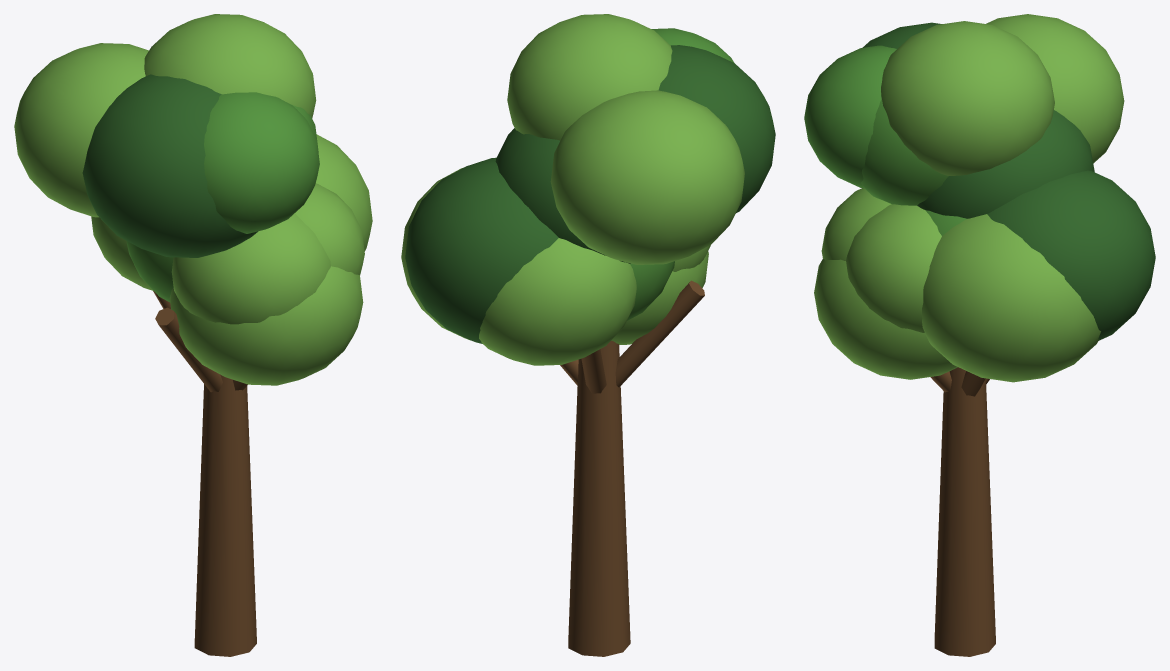
Rendered from arbre_prairie_1.glb.
The picture shows the model from 3 angles, left to right: view 1: azimuth 30°, elevation 25°; view 2: azimuth 150°, elevation 25°; view 3: azimuth 270°, elevation 25°; orthographic projection.
Visible parts, largest first — view 1: feuillage_feuille_claire.008, feuillage_feuille_sombre.012, feuillage_feuille.012, tronc.012, branches_ecorce.006; view 2: feuillage_feuille_claire.008, feuillage_feuille_sombre.012, tronc.012, branches_ecorce.006, feuillage_feuille.012; view 3: feuillage_feuille_claire.008, feuillage_feuille_sombre.012, tronc.012, feuillage_feuille.012, branches_ecorce.006.
Part boxes in pixels (x1,y1,x2,y2): feuillage_feuille_claire.008: [14, 14, 372, 385]; feuillage_feuille_sombre.012: [82, 74, 257, 257]; feuillage_feuille.012: [126, 92, 319, 302]; tronc.012: [194, 374, 256, 656]; branches_ecorce.006: [153, 291, 247, 392]; feuillage_feuille_claire.008: [401, 14, 744, 365]; feuillage_feuille_sombre.012: [405, 45, 775, 343]; tronc.012: [568, 340, 630, 656]; branches_ecorce.006: [560, 280, 704, 393]; feuillage_feuille.012: [627, 28, 734, 320]; feuillage_feuille_claire.008: [814, 14, 1124, 382]; feuillage_feuille_sombre.012: [862, 22, 1155, 340]; tronc.012: [934, 367, 995, 656]; feuillage_feuille.012: [804, 45, 966, 235]; branches_ecorce.006: [930, 371, 989, 396].
Bounding box in the file's own units: 2.46 × 4.48 × 2.33.
